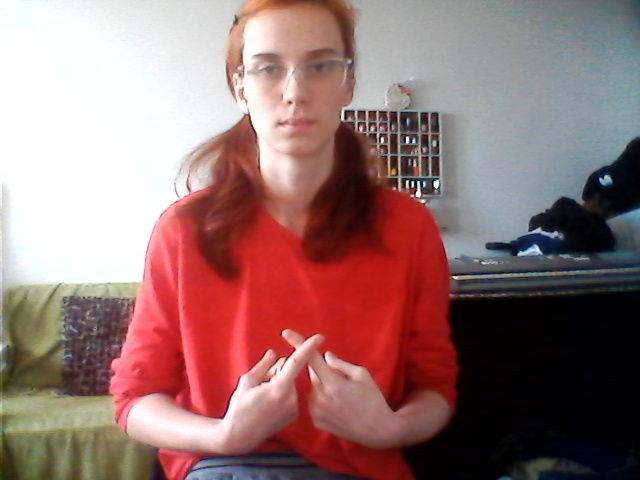x: (216, 307, 378, 445)
